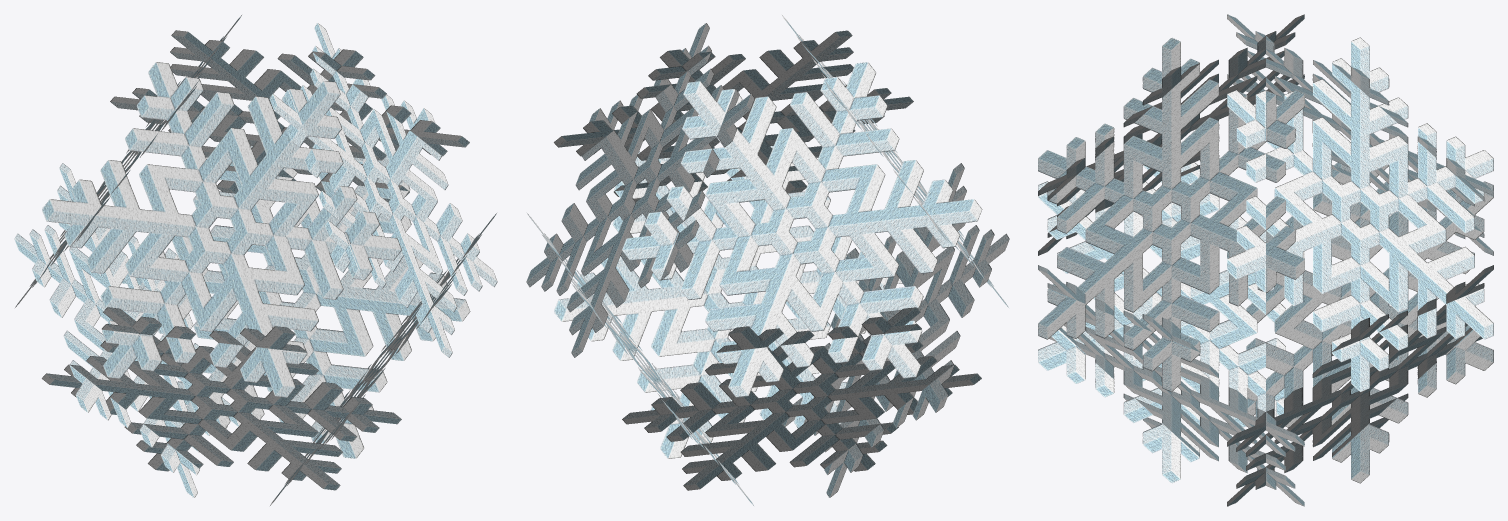
The model's file is CubitruncatedCuboctahedron44.gltf.
3 views of the same model, side by side, from view 1: azimuth 30°, elevation 25°; view 2: azimuth 150°, elevation 25°; view 3: azimuth 270°, elevation 25° (orthographic).
Parts seen in each view (by area): view 1: CubitruncatedCuboctahedron; view 2: CubitruncatedCuboctahedron; view 3: CubitruncatedCuboctahedron.
Part boxes in pixels (box(x1,y1,x2,y2)): CubitruncatedCuboctahedron: box(14, 15, 497, 505); CubitruncatedCuboctahedron: box(526, 15, 1009, 505); CubitruncatedCuboctahedron: box(1038, 14, 1493, 506).
Bounding box in the file's own units: 2.41 × 2.41 × 2.41.
Materials: 1 (1 with a texture image).
